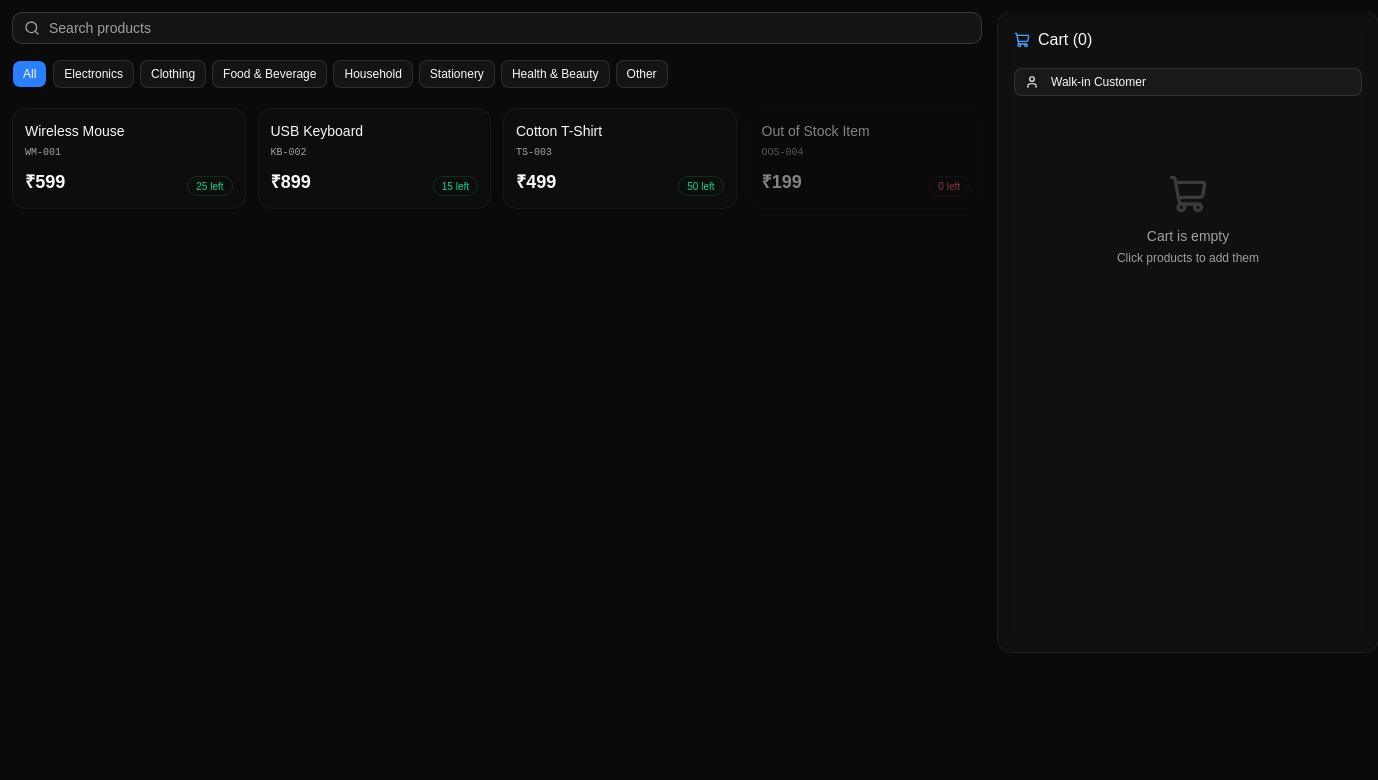
Test: Product Search › filters by category when clicking category tab
The image size is (1378, 780).
Check: the text "Wireless Mouse" is shown, box [25,123,125,139]
Check: the text "Cotton T-Shirt" is shown, box [516,123,602,139]
Click "Clothing" category tab
Click the button "Clothing".
click(173, 74)  # box [140,60,206,88]
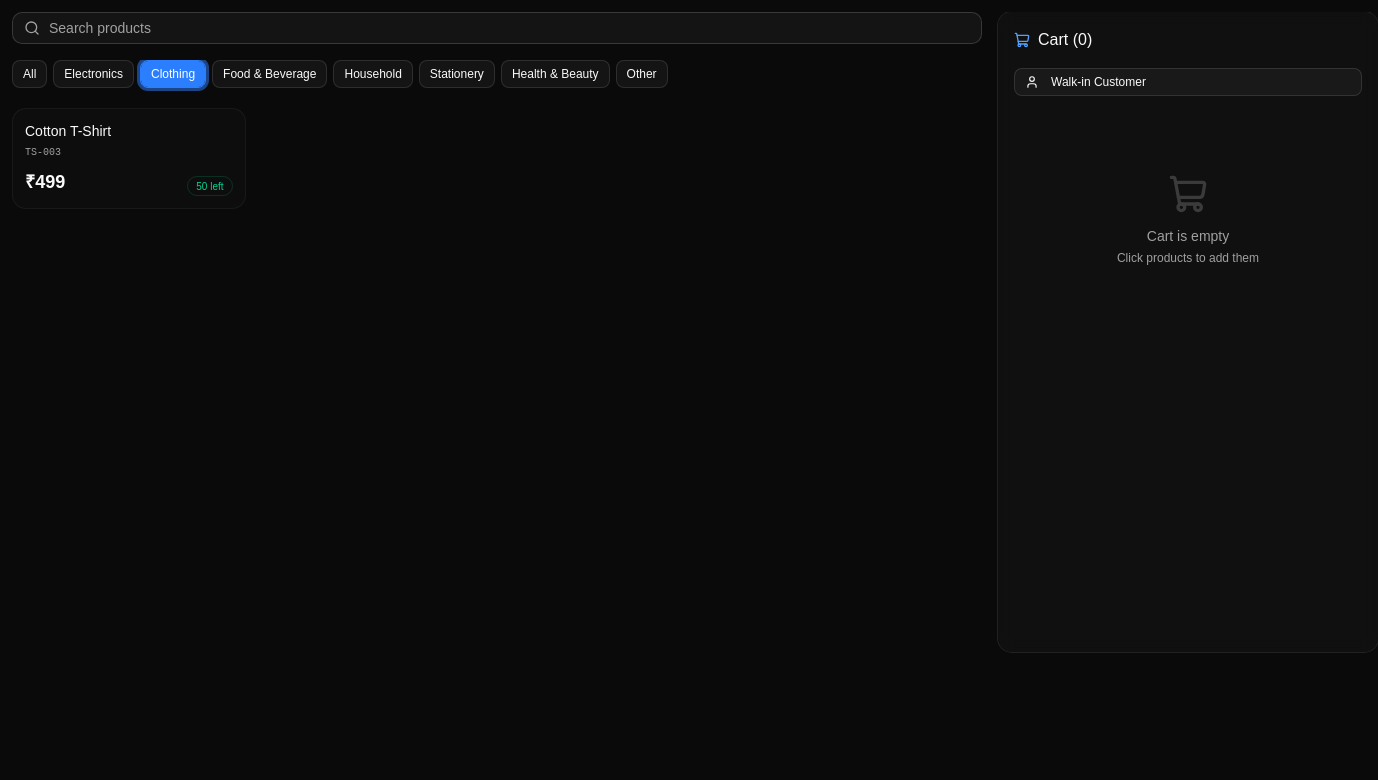
Check: the text "Cotton T-Shirt" is shown, box [25,123,111,139]
Check: the button "Wireless Mouse" is gone
